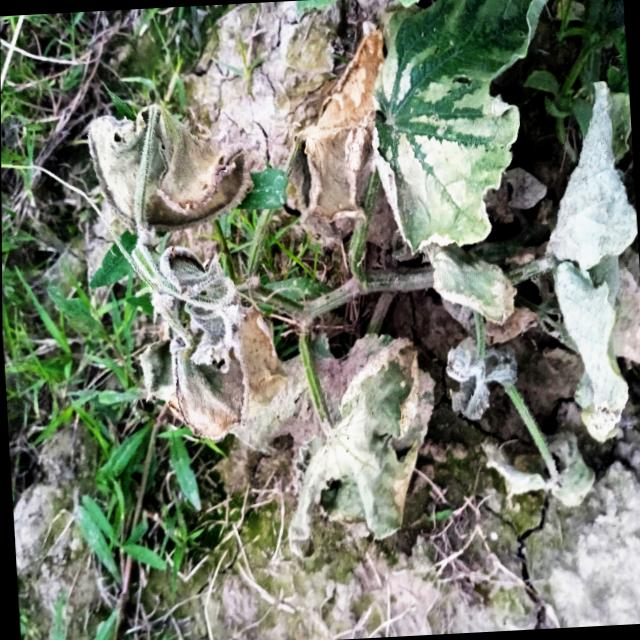Anthracnose: (88, 102, 249, 238)
Bacterial-Wilt: (542, 79, 640, 443), (285, 341, 440, 555), (138, 243, 284, 445), (285, 30, 383, 249)
